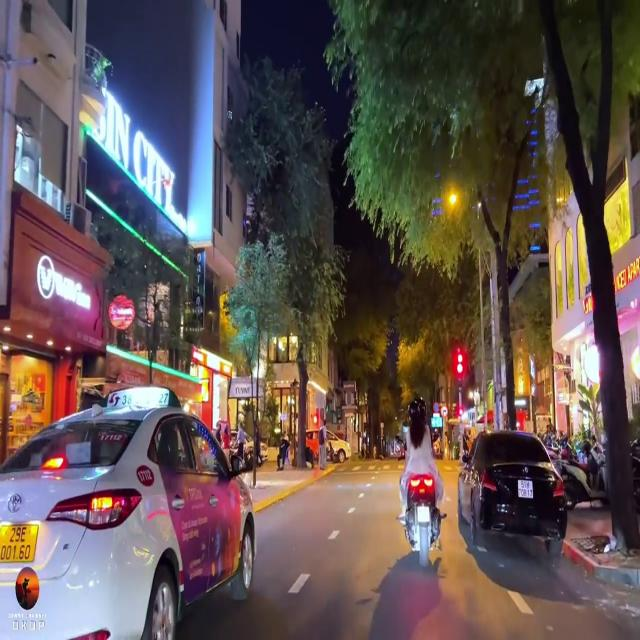bien_trang: (515, 477, 535, 501)
bien_vang: (2, 519, 40, 569)
